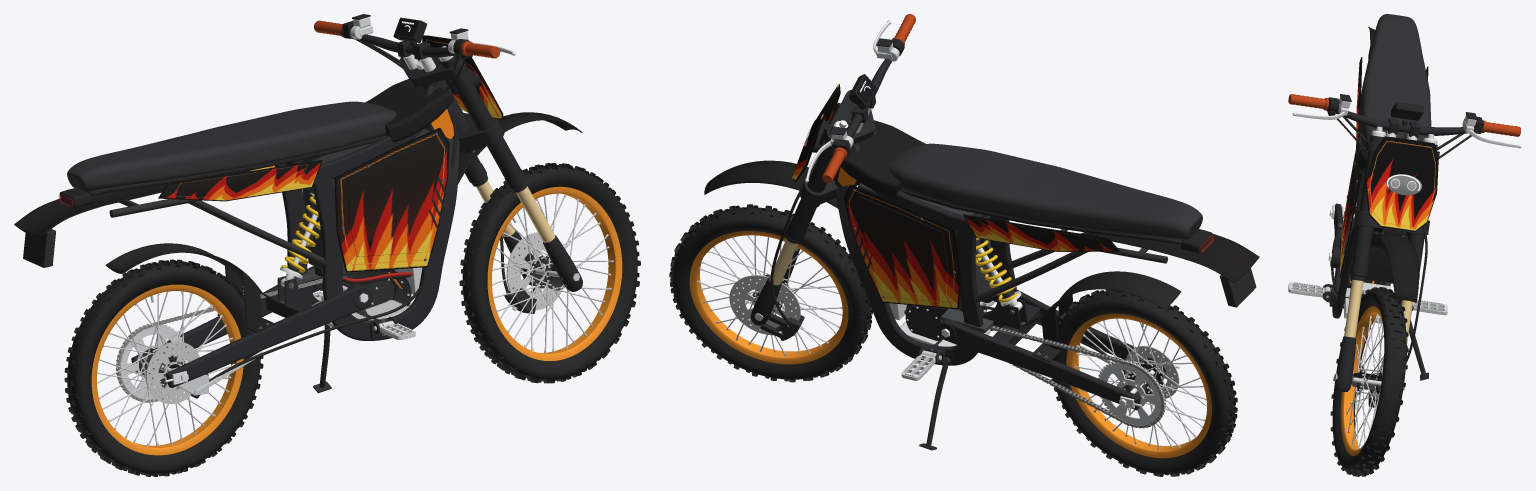
The model's file is surron-light-bee-x-ember.glb.
The picture shows the model from 3 angles, left to right: view 1: azimuth 30°, elevation 25°; view 2: azimuth 150°, elevation 25°; view 3: azimuth 270°, elevation 25°; orthographic projection. The views are drawn at different scales.
Visible parts, largest first — view 1: Seat, Tire_R, Tire_F, Frame_Main, SidePanel_Inner_R, Swingarm_Arms, SidePanel_R, Rim_F, Rim_R, RearCover_R, Spokes_F, Spokes_R (+25 smaller); view 2: Seat, Tire_F, Tire_R, Frame_Main, SidePanel_Inner_L, Swingarm_Arms, Rim_F, SidePanel_L, Rim_R, TankCover, RearCover_L, RearFender (+20 smaller); view 3: Seat, Tire_F, HeadlightShroud, FrontFender, Spokes_F, Rim_F, Fork_Upper_R, Frame_Main, Battery_Pack, Handlebar, Fork_Lug_R, Fork_Stanchion_R (+17 smaller).
Part boxes in pixels (left/top/right/bottom): Seat: left=67, top=101, right=396, bottom=191; Tire_R: left=64, top=259, right=263, bottom=476; Tire_F: left=459, top=163, right=640, bottom=383; Frame_Main: left=275, top=82, right=459, bottom=340; SidePanel_Inner_R: left=347, top=141, right=439, bottom=256; Swingarm_Arms: left=131, top=266, right=372, bottom=387; SidePanel_R: left=334, top=127, right=449, bottom=272; Rim_F: left=487, top=186, right=622, bottom=360; Rim_R: left=91, top=284, right=243, bottom=455; RearCover_R: left=158, top=160, right=322, bottom=201; Spokes_F: left=492, top=194, right=612, bottom=352; Spokes_R: left=97, top=291, right=233, bottom=446; Seat: left=889, top=143, right=1202, bottom=239; Tire_F: left=669, top=204, right=873, bottom=382; Tire_R: left=1050, top=289, right=1237, bottom=476; Frame_Main: left=834, top=130, right=1016, bottom=365; SidePanel_Inner_L: left=854, top=196, right=947, bottom=296; Swingarm_Arms: left=937, top=280, right=1170, bottom=410; Rim_F: left=689, top=231, right=848, bottom=364; SidePanel_L: left=843, top=184, right=961, bottom=309; Rim_R: left=1066, top=313, right=1211, bottom=458; TankCover: left=840, top=120, right=925, bottom=197; RearCover_L: left=963, top=214, right=1119, bottom=251; RearFender: left=1094, top=234, right=1259, bottom=282; Seat: left=1359, top=14, right=1431, bottom=147; Tire_F: left=1330, top=287, right=1408, bottom=476; HeadlightShroud: left=1365, top=136, right=1438, bottom=231; FrontFender: left=1370, top=232, right=1419, bottom=302; Spokes_F: left=1346, top=315, right=1383, bottom=448; Rim_F: left=1340, top=306, right=1382, bottom=455; Fork_Upper_R: left=1350, top=135, right=1383, bottom=277; Frame_Main: left=1329, top=136, right=1408, bottom=318; Battery_Pack: left=1350, top=174, right=1407, bottom=283; Handlebar: left=1322, top=108, right=1483, bottom=135; Fork_Lug_R: left=1335, top=336, right=1355, bottom=391; Fork_Stanchion_R: left=1344, top=279, right=1363, bottom=337.
Size of the model in its own units: 1.97 by 1.19 by 0.7598.
42 materials, 3 textured.
